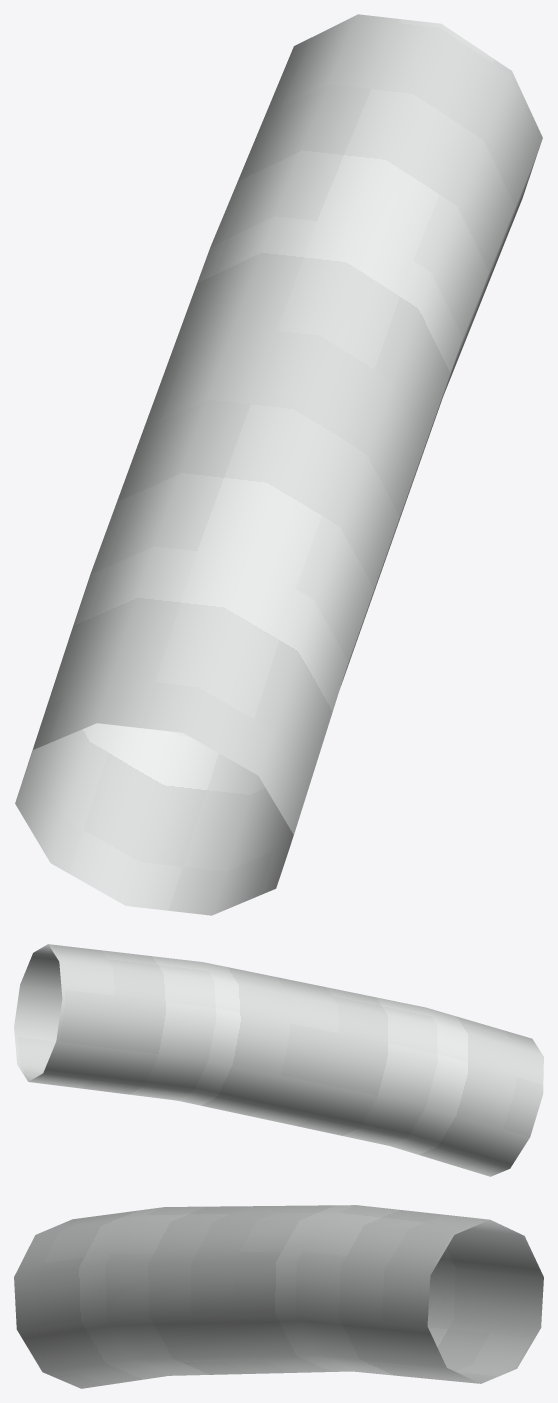
Rendered from nycsignalarm_diagonal8_c2.obj.
3 renders of one model, top to bottom at view 1: azimuth 30°, elevation 25°; view 2: azimuth 150°, elevation 25°; view 3: azimuth 270°, elevation 25°, orthographic. The views are drawn at different scales.
Parts seen in each view (by area): view 1: nycsignalarm_diagonal8_c2; view 2: nycsignalarm_diagonal8_c2; view 3: nycsignalarm_diagonal8_c2.
Boxes of the visible parts, left/top/right/bottom form: nycsignalarm_diagonal8_c2: left=15, top=14, right=542, bottom=915; nycsignalarm_diagonal8_c2: left=14, top=944, right=543, bottom=1176; nycsignalarm_diagonal8_c2: left=14, top=1205, right=543, bottom=1388.
Size of the model in its own units: 1.06 by 0.6864 by 1.06.
